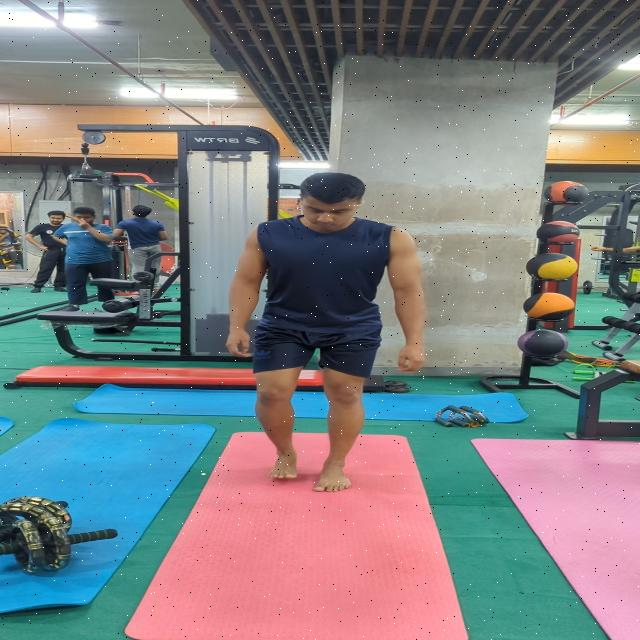Normal_Lunges: (221, 168, 434, 496)
